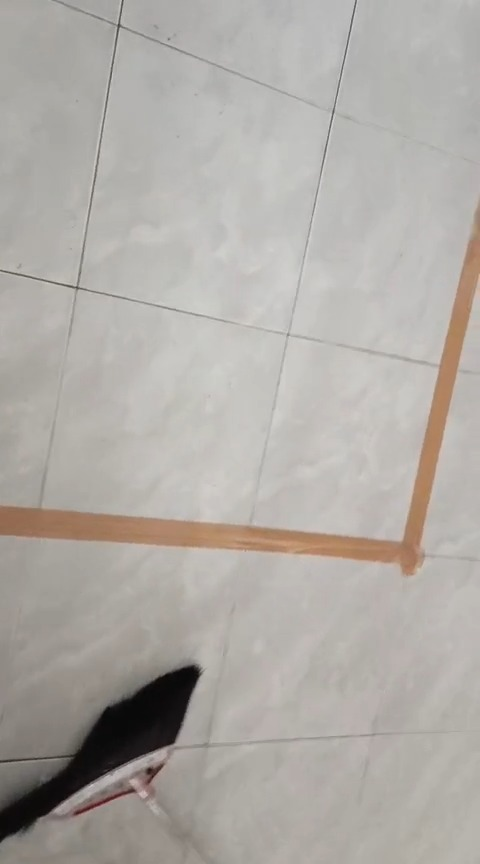floor marking: (0, 204, 479, 575)
